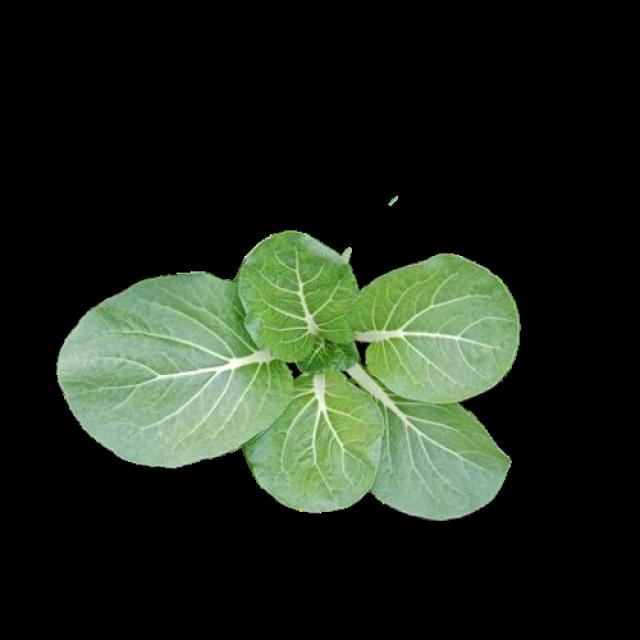healthy: (59, 232, 517, 520)
not-mature: (61, 232, 518, 522)
